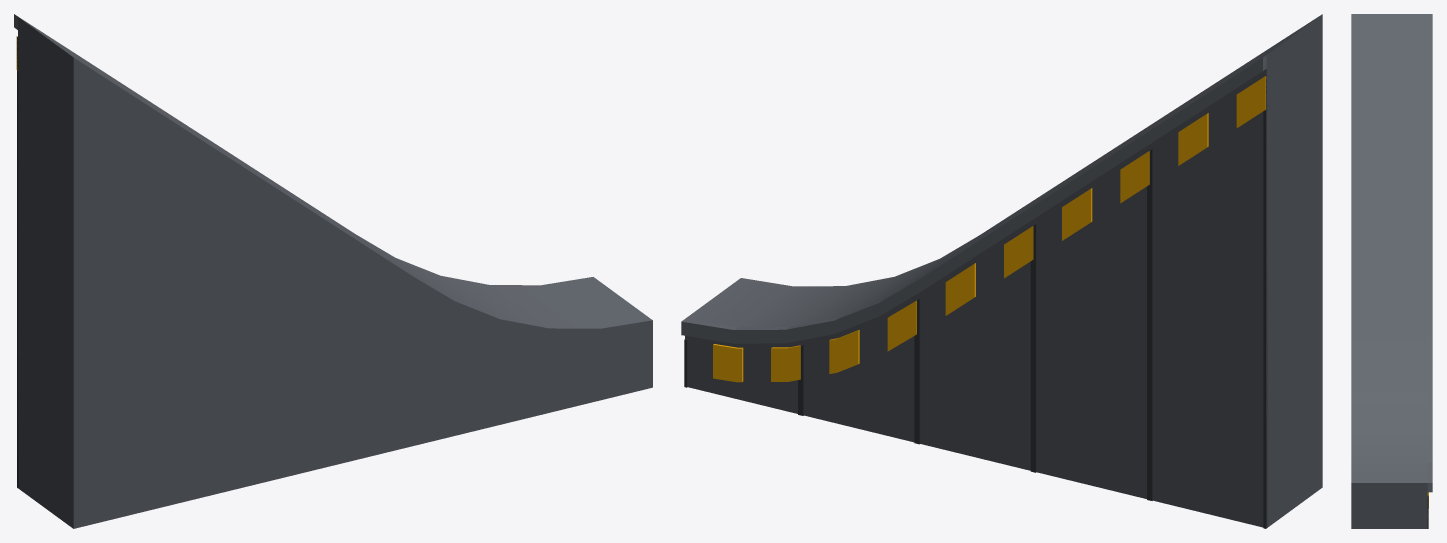
The picture shows the model from 3 angles, left to right: view 1: azimuth 30°, elevation 25°; view 2: azimuth 150°, elevation 25°; view 3: azimuth 270°, elevation 25°; orthographic projection. The views are drawn at different scales.
Parts seen in each view (by area): view 1: d3wf; view 2: d3wf; view 3: d3wf.
Part boxes in pixels (x1,y1,x2,y2): d3wf: (14, 14, 652, 528); d3wf: (681, 14, 1322, 528); d3wf: (1351, 14, 1432, 528).
Bounding box in the file's own units: 9 × 7 × 1.6.
